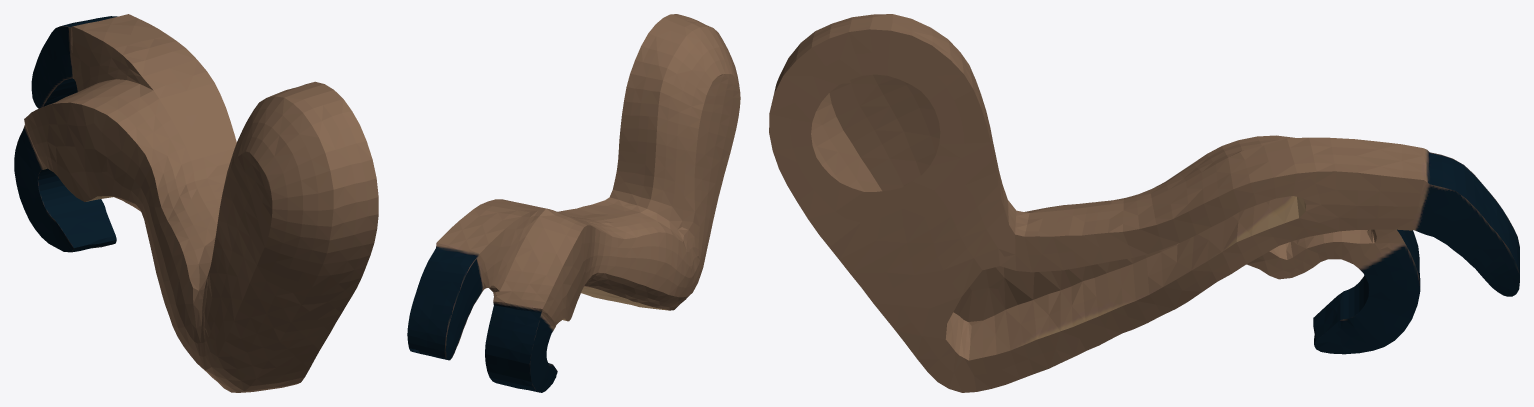
File: BrazoIzquierdo.obj
The picture shows the model from 3 angles, left to right: view 1: azimuth 30°, elevation 25°; view 2: azimuth 150°, elevation 25°; view 3: azimuth 270°, elevation 25°; orthographic projection. The views are drawn at different scales.
Visible parts, largest first — view 1: BrazoIzquierdo_BrazoIzquierdo_polySurface69; view 2: BrazoIzquierdo_BrazoIzquierdo_polySurface69; view 3: BrazoIzquierdo_BrazoIzquierdo_polySurface69.
Part boxes in pixels (x1=…): BrazoIzquierdo_BrazoIzquierdo_polySurface69: x1=14, y1=14, x2=378, y2=392; BrazoIzquierdo_BrazoIzquierdo_polySurface69: x1=407, y1=14, x2=740, y2=392; BrazoIzquierdo_BrazoIzquierdo_polySurface69: x1=769, y1=14, x2=1519, y2=392.
Size of the model in its own units: 0.3648 by 0.8561 by 1.6.
